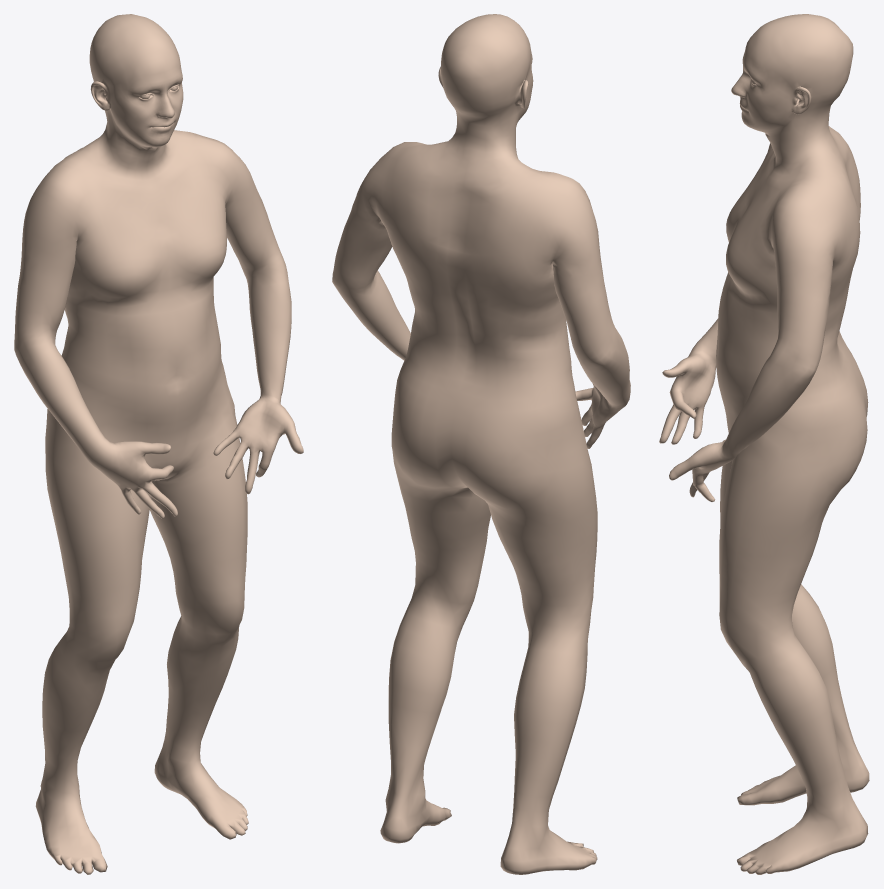
File: WORD-01628.glb
3 renders of one model, left to right at view 1: azimuth 30°, elevation 25°; view 2: azimuth 150°, elevation 25°; view 3: azimuth 270°, elevation 25°, orthographic. The views are drawn at different scales.
Bounding box in the file's own units: 0.5937 × 1.72 × 0.4009.
